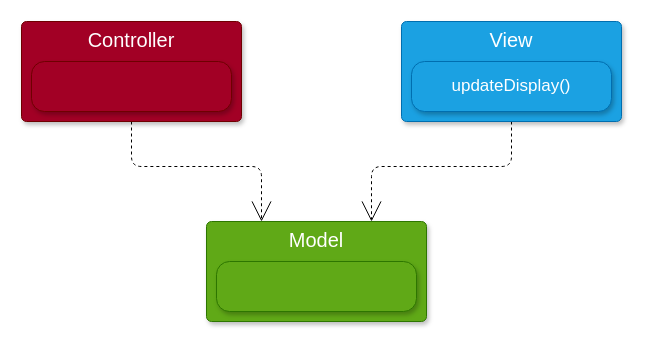
The diagram is 645 pixels wide and 346 high, and some of its shapes have lost their labels. Each missing label, with the centre of its shape:
businessRule(): (x=317, y=287)
triggerChange(): (x=132, y=87)
